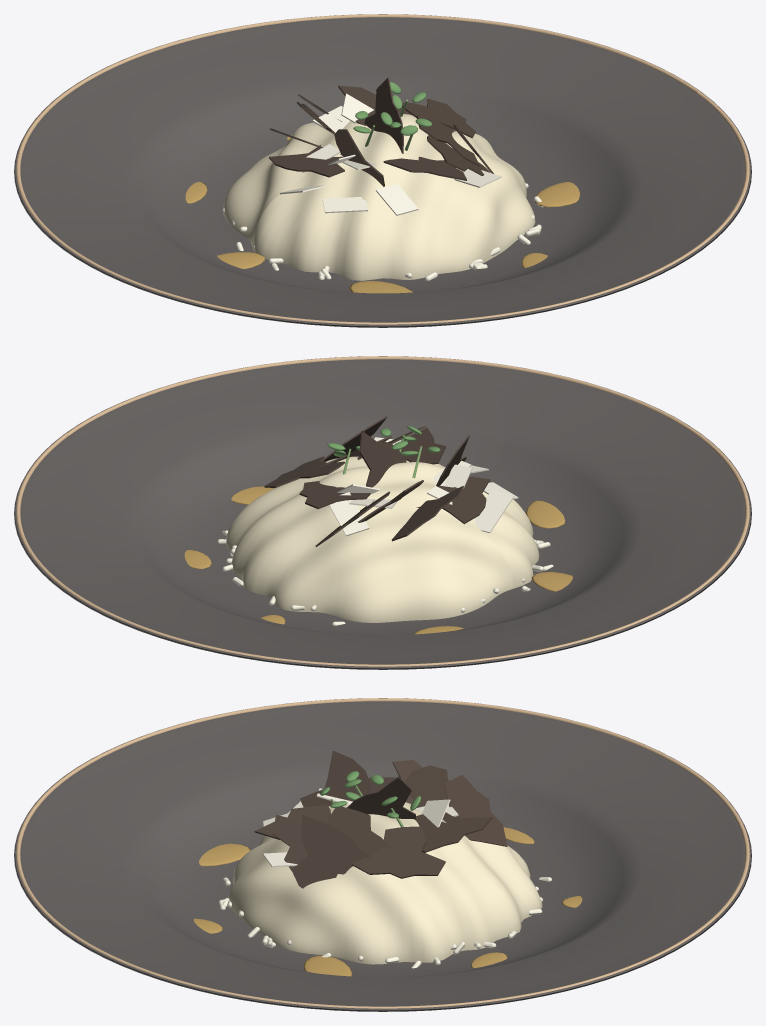
Rendered from vista-signature-tartufo.glb.
The picture shows the model from 3 angles, top to bottom: view 1: azimuth 30°, elevation 25°; view 2: azimuth 150°, elevation 25°; view 3: azimuth 270°, elevation 25°; orthographic projection.
Visible parts, largest first — view 1: Plate, Risotto, RimRing, Truffle0, Truffle6, Truffle5, Truffle7, Oil0, Truffle2, Truffle1, Truffle8, Parm0 (+4 smaller); view 2: Plate, Risotto, RimRing, Truffle0, Truffle6, Truffle3, Truffle9, Truffle5, Truffle7, Parm2, Oil2, Parm1 (+2 smaller); view 3: Plate, Risotto, RimRing, Truffle10, Truffle5, Truffle11, Truffle2, Truffle3, Truffle1, Truffle0, Truffle4, Truffle8 (+3 smaller).
Part boxes in pixels (x1,y1,x2,y2): Plate: [14, 14, 751, 327]; Risotto: [223, 114, 535, 280]; RimRing: [16, 14, 749, 324]; Truffle0: [364, 77, 403, 153]; Truffle6: [269, 145, 344, 177]; Truffle5: [402, 98, 475, 138]; Truffle7: [383, 156, 466, 180]; Oil0: [534, 181, 579, 207]; Truffle2: [334, 129, 384, 186]; Truffle1: [416, 115, 479, 165]; Truffle8: [427, 135, 490, 175]; Parm0: [375, 184, 418, 215]; Plate: [14, 356, 751, 669]; Risotto: [226, 456, 539, 622]; RimRing: [16, 356, 749, 666]; Truffle0: [359, 431, 406, 487]; Truffle6: [416, 476, 489, 524]; Truffle3: [299, 481, 370, 509]; Truffle9: [391, 486, 463, 541]; Truffle5: [264, 456, 345, 487]; Truffle7: [398, 428, 445, 464]; Parm2: [474, 490, 513, 532]; Oil2: [526, 500, 565, 528]; Parm1: [329, 492, 369, 536]; Plate: [14, 698, 751, 1011]; Risotto: [228, 802, 542, 964]; RimRing: [16, 698, 749, 1008]; Truffle10: [291, 814, 371, 888]; Truffle5: [352, 826, 445, 878]; Truffle11: [444, 774, 507, 846]; Truffle2: [300, 750, 370, 807]; Truffle3: [414, 812, 492, 852]; Truffle1: [326, 806, 393, 855]; Truffle0: [347, 776, 415, 818]; Truffle4: [405, 765, 447, 807]; Truffle8: [272, 815, 328, 870].
Size of the model in its own units: 0.27 by 0.059 by 0.27.
